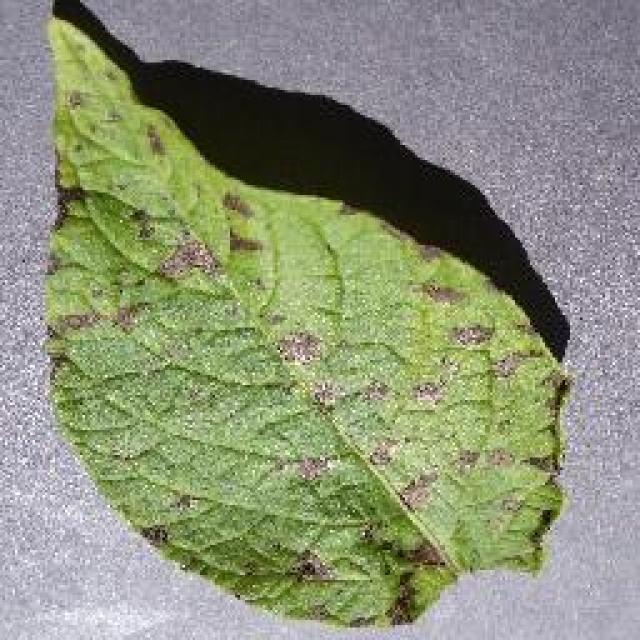Potato: (40, 0, 572, 630)
